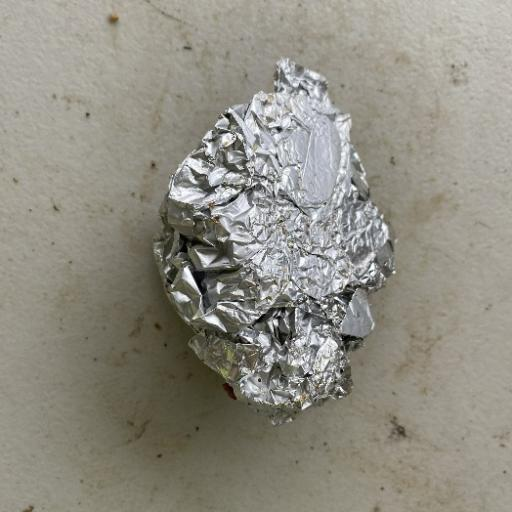Metal: (150, 56, 398, 427)
